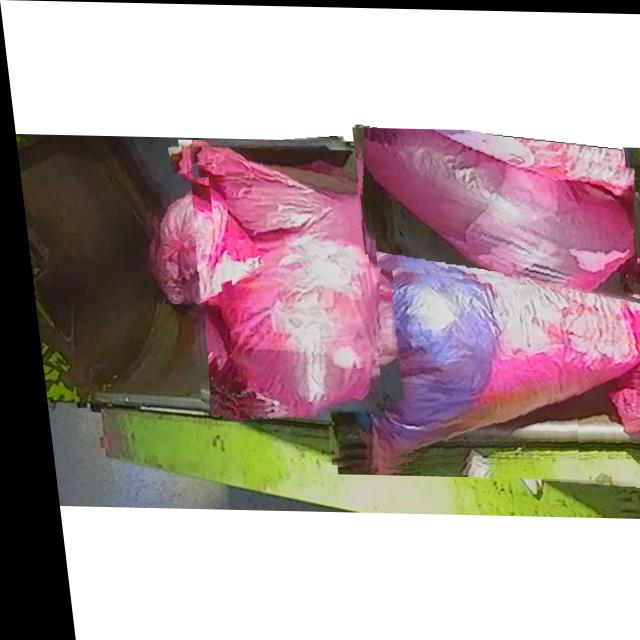other_trashbag: (324, 254, 640, 458), (183, 146, 363, 411), (350, 127, 628, 290), (147, 175, 205, 303)
